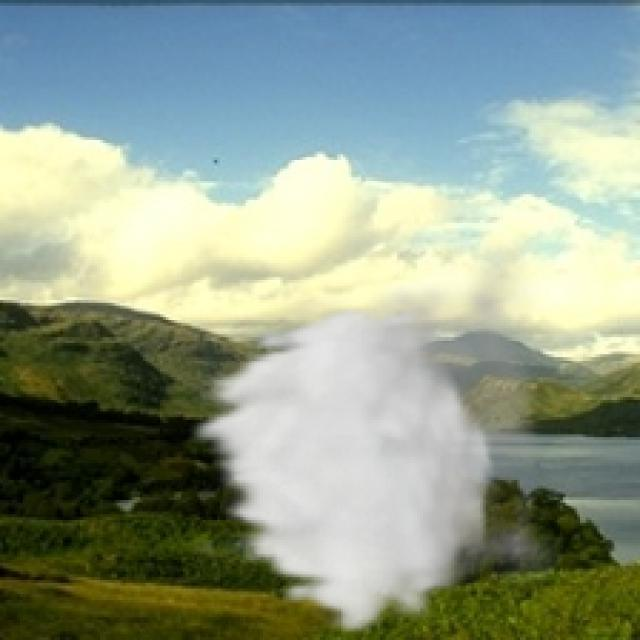Smoke: (182, 234, 568, 637)
